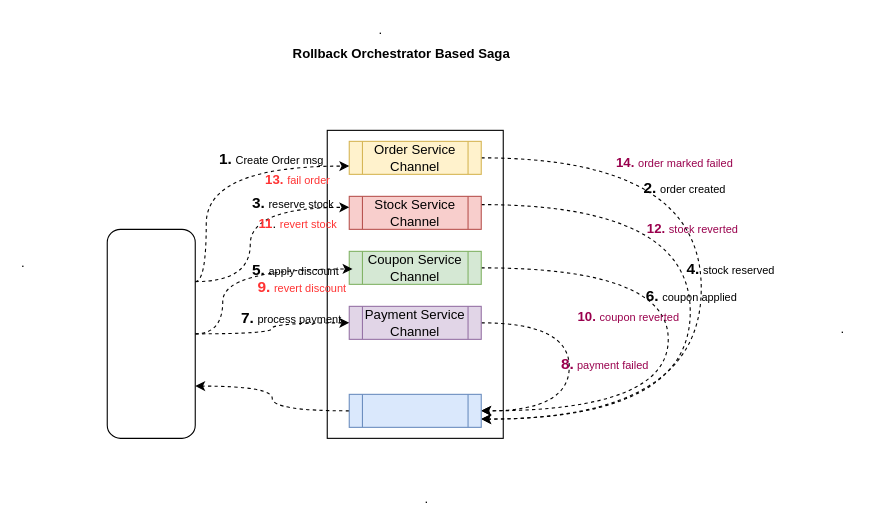
The diagram is 879 pixels wide and 528 high, and some of its shapes have lost their labels. Each missing label, with the box of its shape:
Reply Back Channel: (348, 393, 481, 427)
Saga Orchestrator: (106, 228, 195, 438)
